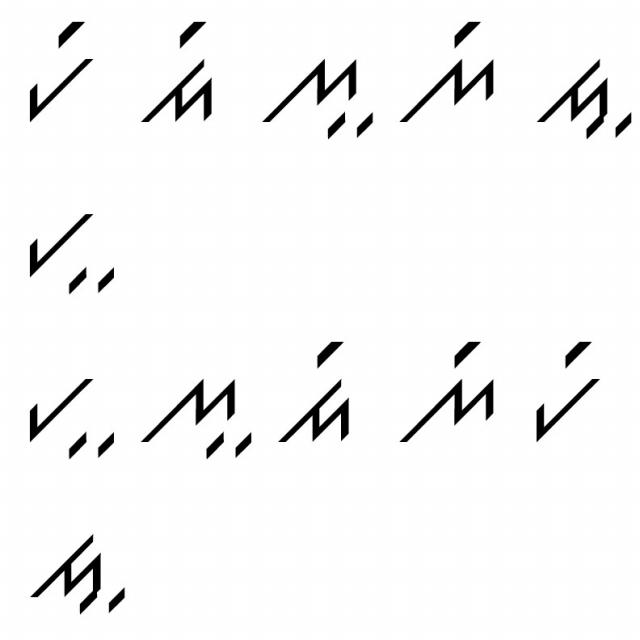dah: (26, 519, 133, 624), (530, 51, 634, 149)
dang: (278, 337, 360, 452), (142, 16, 224, 129)
nah: (258, 45, 376, 143), (136, 372, 253, 462)
nang: (392, 327, 498, 447), (401, 20, 504, 125)
pah: (18, 190, 128, 312), (20, 371, 120, 465)
pang: (17, 15, 103, 124), (526, 336, 603, 449)
